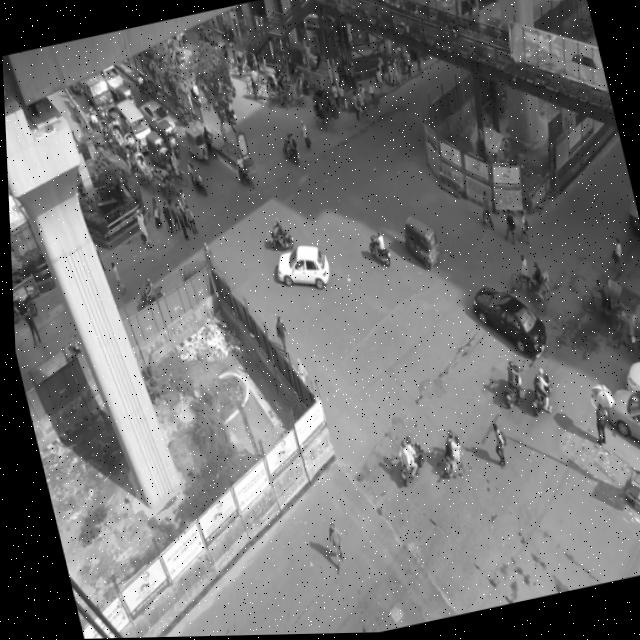cng: (395, 211, 443, 278), (180, 121, 210, 165), (142, 128, 169, 172), (159, 116, 181, 160), (111, 82, 135, 111)
rikshaw: (570, 268, 629, 332), (503, 254, 559, 318), (597, 305, 640, 365), (155, 147, 186, 189), (278, 73, 308, 112), (238, 68, 266, 108), (309, 96, 335, 136), (260, 70, 284, 113), (225, 49, 250, 83), (117, 140, 138, 178), (130, 150, 150, 187), (96, 119, 115, 153), (106, 121, 125, 151)
